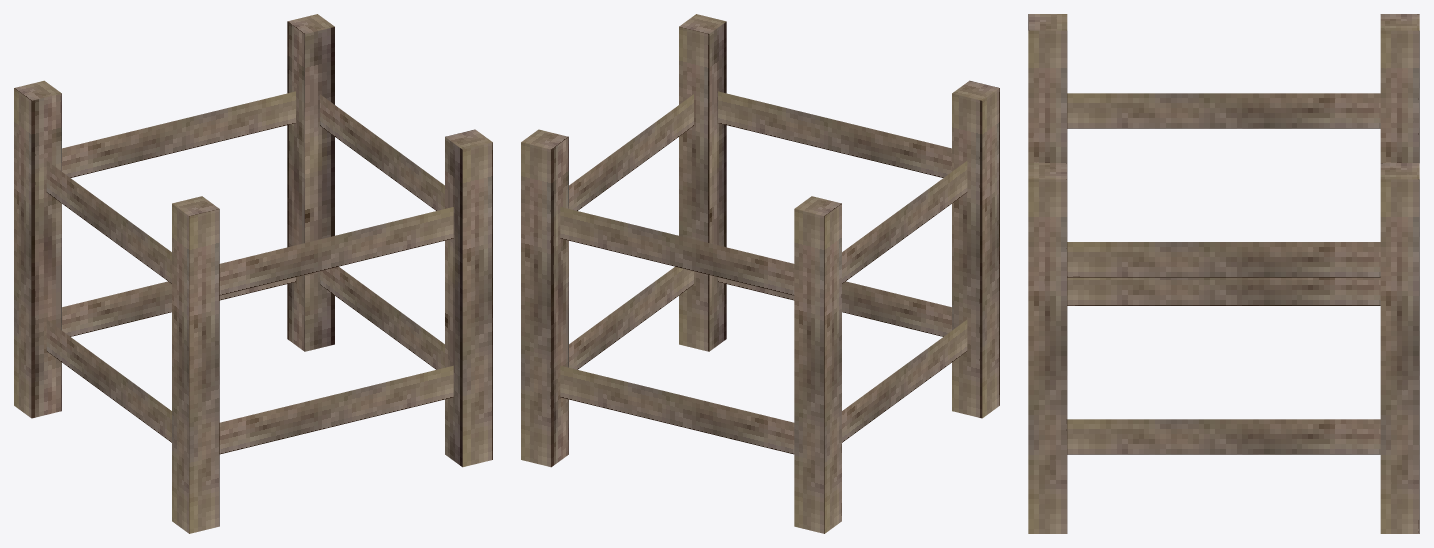
The model's file is structure.glb.
3 views of the same model, side by side, from view 1: azimuth 30°, elevation 25°; view 2: azimuth 150°, elevation 25°; view 3: azimuth 270°, elevation 25° (orthographic). The views are drawn at different scales.
Parts seen in each view (by area): view 1: structure; view 2: structure; view 3: structure.
Part boxes in pixels (x1,y1,x2,y2): structure: [14, 14, 492, 533]; structure: [521, 14, 999, 533]; structure: [1028, 14, 1419, 533].
Size of the model in its own units: 1 by 1 by 1.
Materials: 1 (1 with a texture image).
